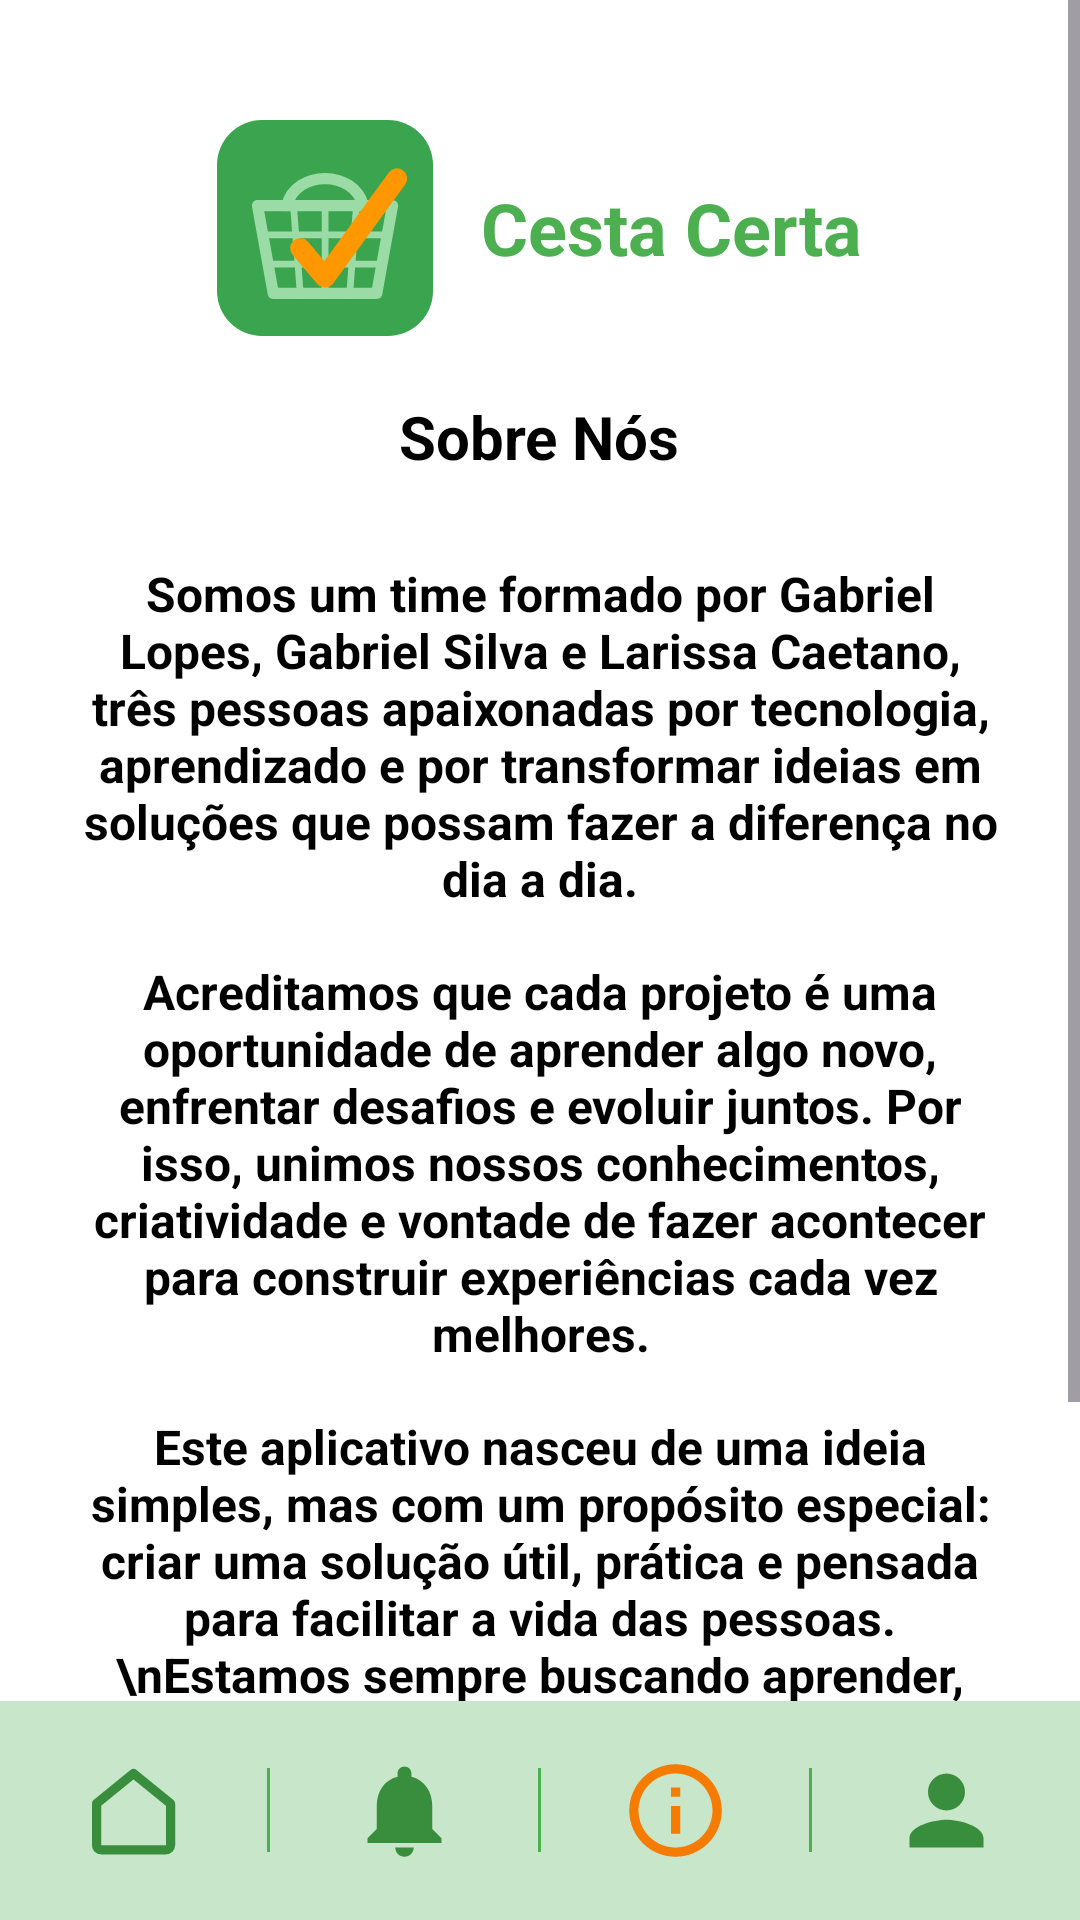

Where to tap for icons on this 1080px×1920px app screen, as point (x, y):
Início: point (134, 1811)
Notificações: point (404, 1811)
Perfil: point (946, 1810)
Sobre nós: point (675, 1810)
